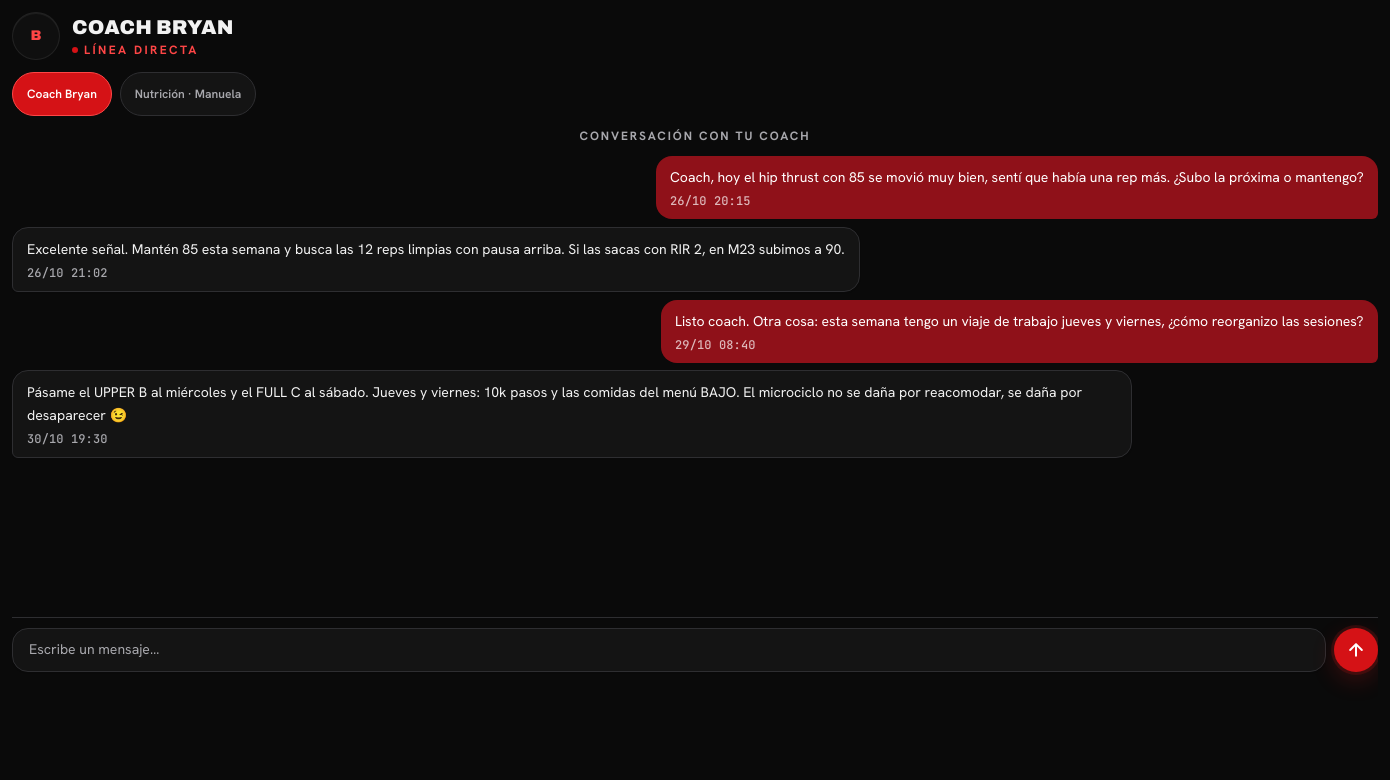
Test: el chat del asesorado tiene dos remitentes › cambia de hilo al elegir a la nutricionista
Click the tab "Nutrición · Manuela": (188, 94) [120,72,256,116]
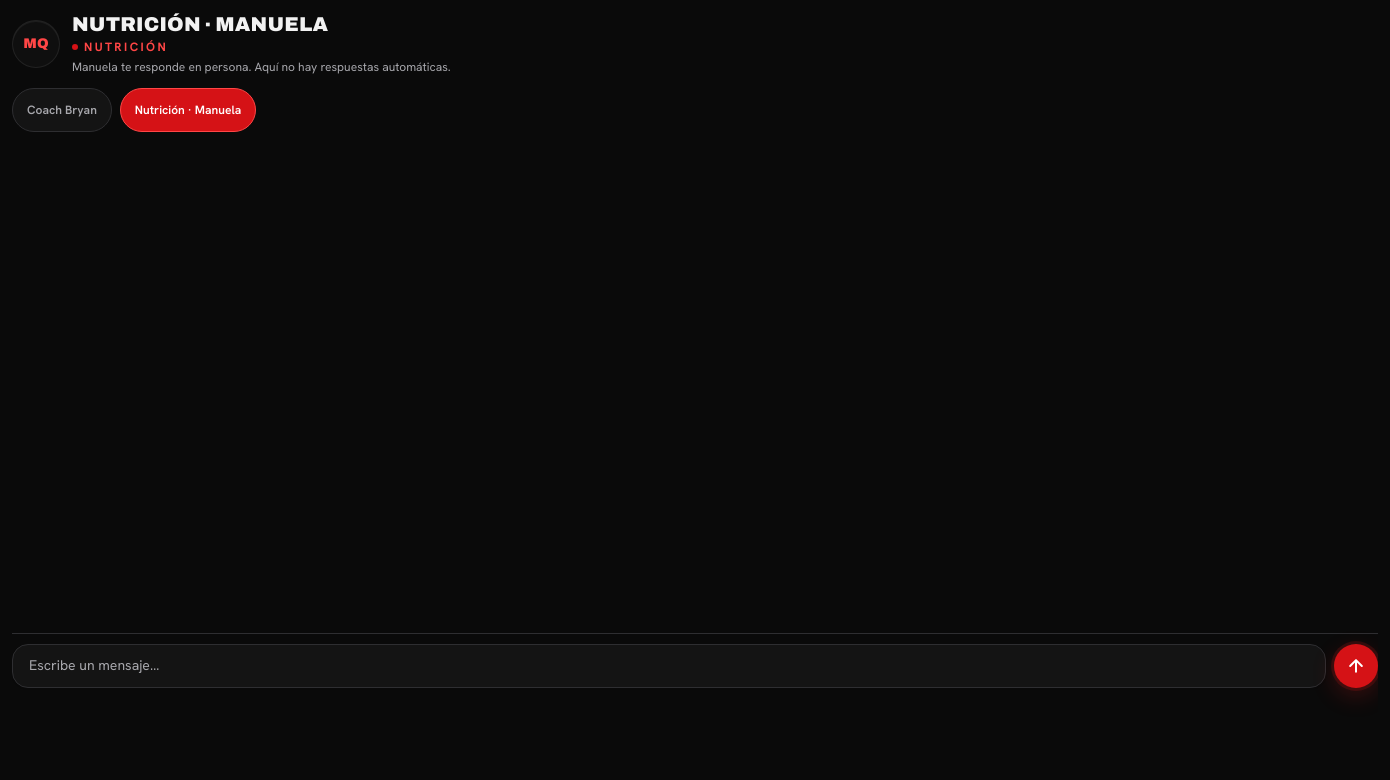
Check: the heading "Nutrición · Manuela" is shown, box [72,13,328,35]
